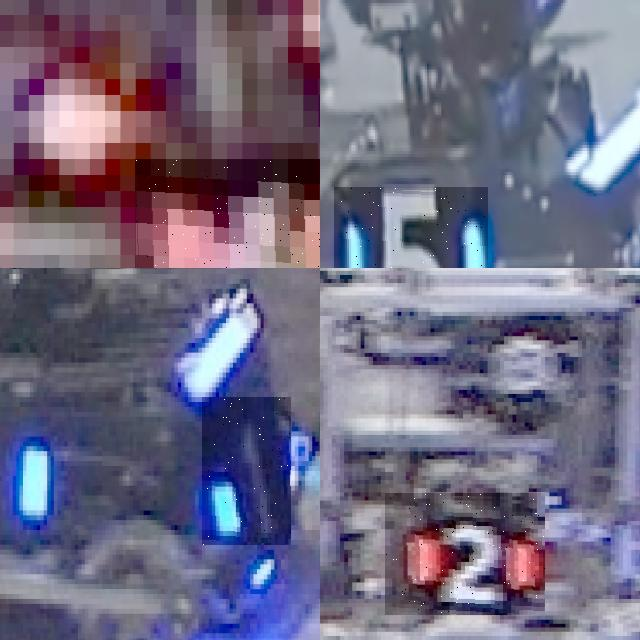B1: (202, 397, 291, 545), (0, 407, 50, 550)
B5: (334, 187, 487, 268)
R2: (385, 493, 545, 615)
R4: (135, 159, 320, 268)
